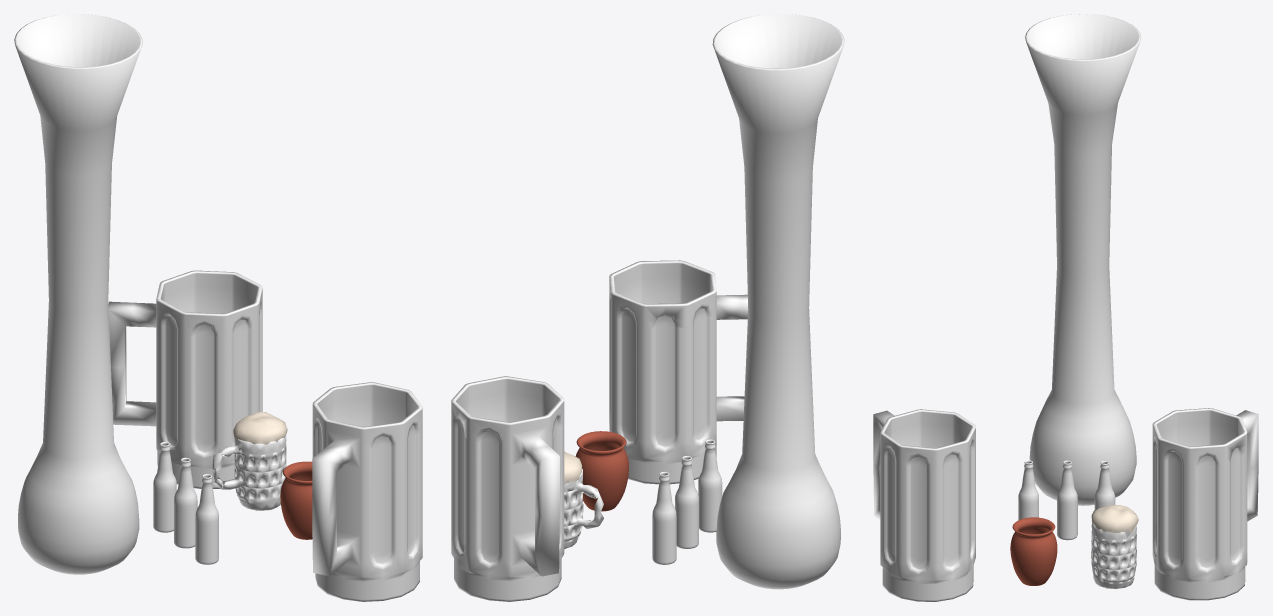
Rendered from menu5s.glb.
The picture shows the model from 3 angles, left to right: view 1: azimuth 30°, elevation 25°; view 2: azimuth 150°, elevation 25°; view 3: azimuth 270°, elevation 25°; orthographic projection. The views are drawn at different scales.
Visible parts, largest first — view 1: 3DGeom-8, yarda, 3DGeom-9, cantarito, tarro_cerveza; view 2: yarda, 3DGeom-8, 3DGeom-9, cantarito; view 3: 3DGeom-8, yarda, 3DGeom-9, cantarito, tarro_cerveza.
Boxes of the visible parts, x1=… form: 3DGeom-8: x1=108, y1=270, x2=422, y2=601; yarda: x1=14, y1=14, x2=142, y2=574; 3DGeom-9: x1=153, y1=434, x2=286, y2=564; cantarito: x1=280, y1=461, x2=312, y2=539; tarro_cerveza: x1=233, y1=411, x2=287, y2=444; yarda: x1=712, y1=14, x2=844, y2=589; 3DGeom-8: x1=451, y1=260, x2=748, y2=601; 3DGeom-9: x1=564, y1=439, x2=722, y2=564; cantarito: x1=575, y1=431, x2=628, y2=511; 3DGeom-8: x1=873, y1=408, x2=1258, y2=601; yarda: x1=1025, y1=14, x2=1141, y2=505; 3DGeom-9: x1=1018, y1=460, x2=1136, y2=589; cantarito: x1=1010, y1=517, x2=1057, y2=585; tarro_cerveza: x1=1091, y1=505, x2=1138, y2=533.
Size of the model in its own units: 0.00941 by 0.0155 by 0.0118.
